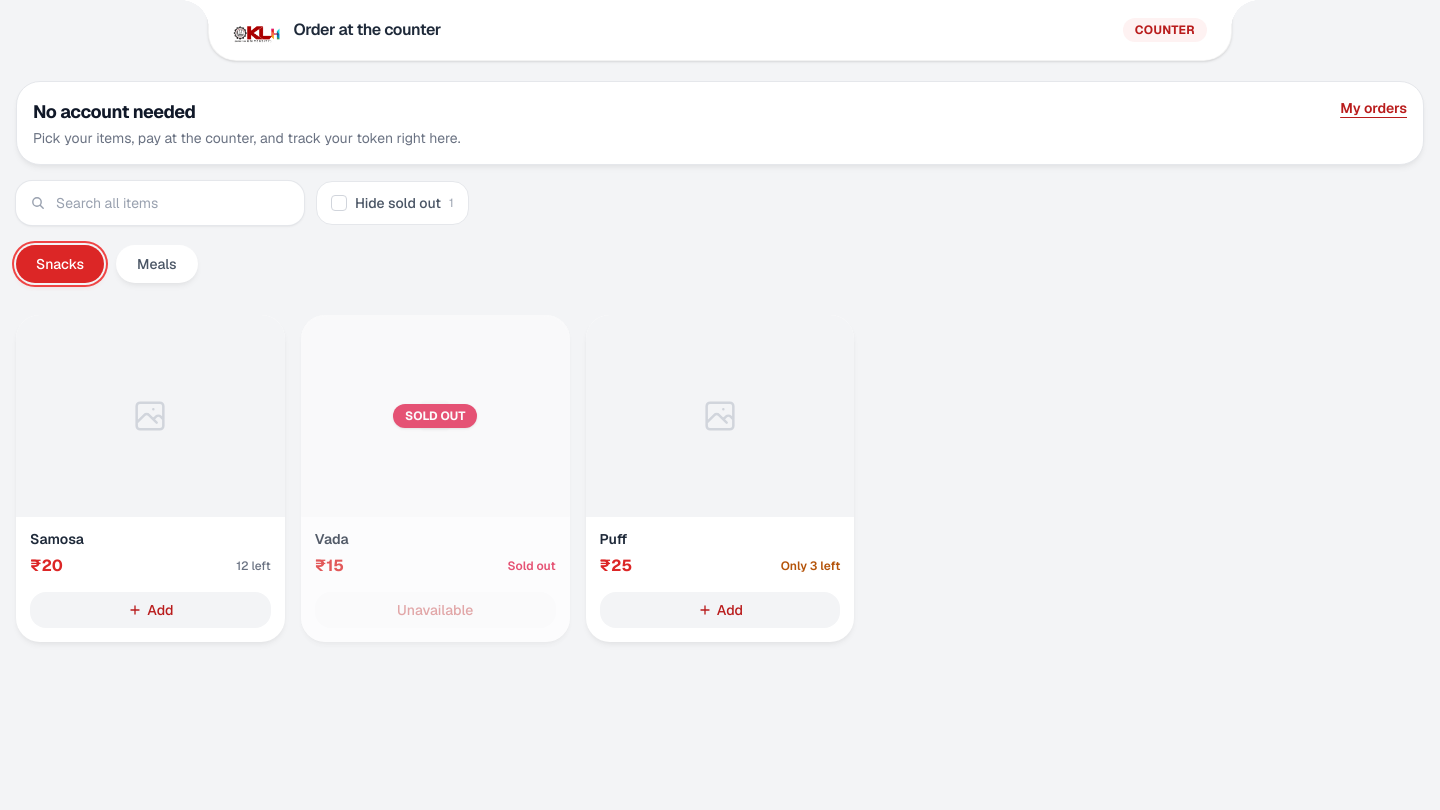
hides sold-out items on request and says how many are hidden
The image size is (1440, 810).
Expected: the heading "Vada" is shown, x1=315 y1=530 x2=349 y2=548
Click the checkbox labelled "Hide sold out 1" at (392, 203), box x1=316 y1=181 x2=469 y2=225
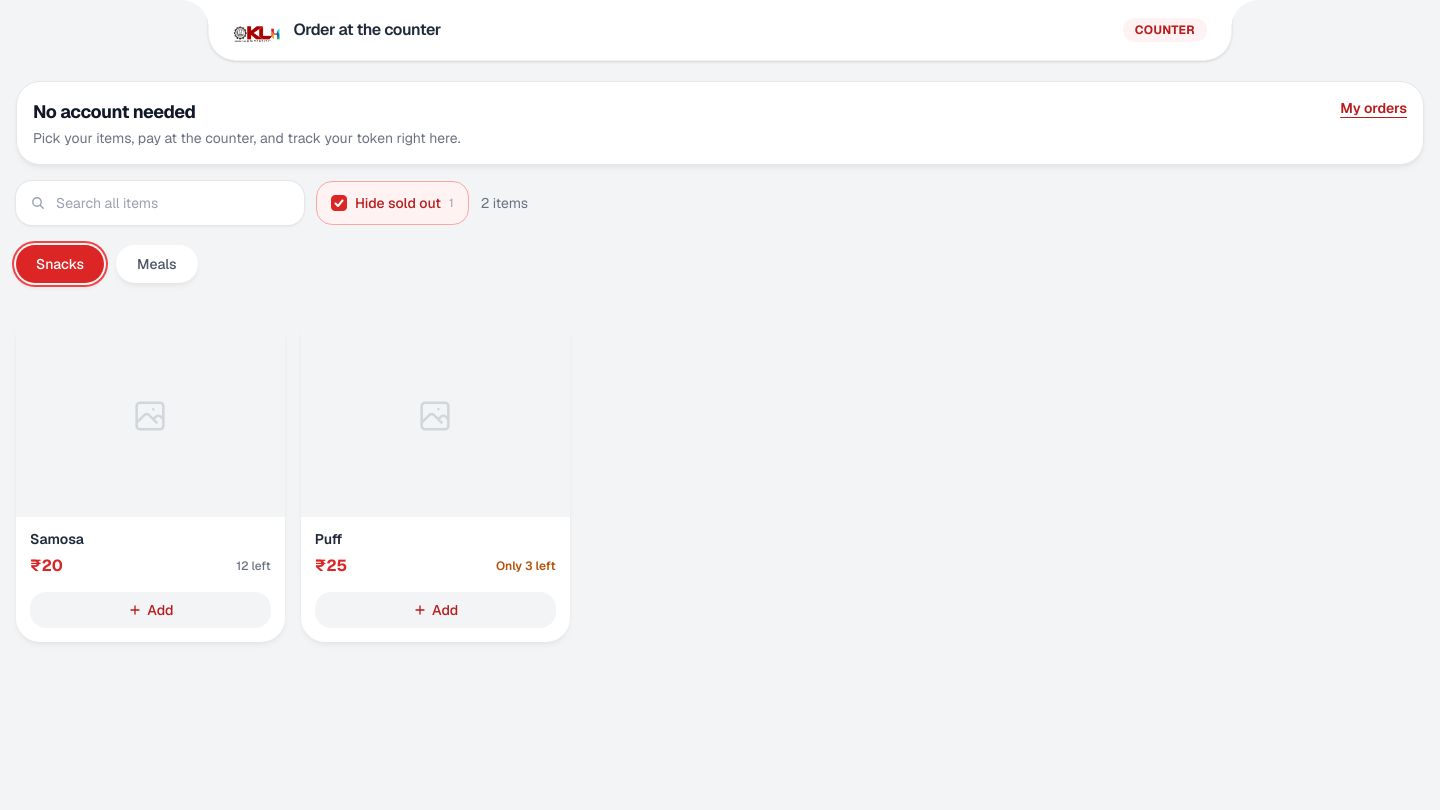
Expected: the heading "Samosa" is shown, x1=30 y1=530 x2=84 y2=548
Expected: the heading "Vada" is gone
